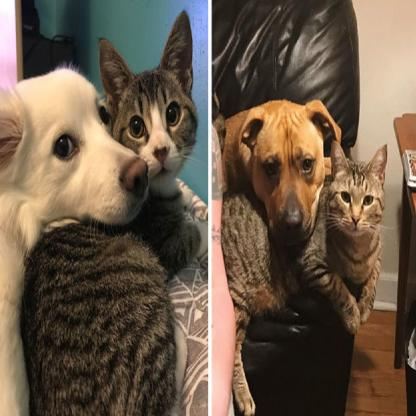cat: (325, 128, 401, 270)
dog: (226, 89, 333, 257)
